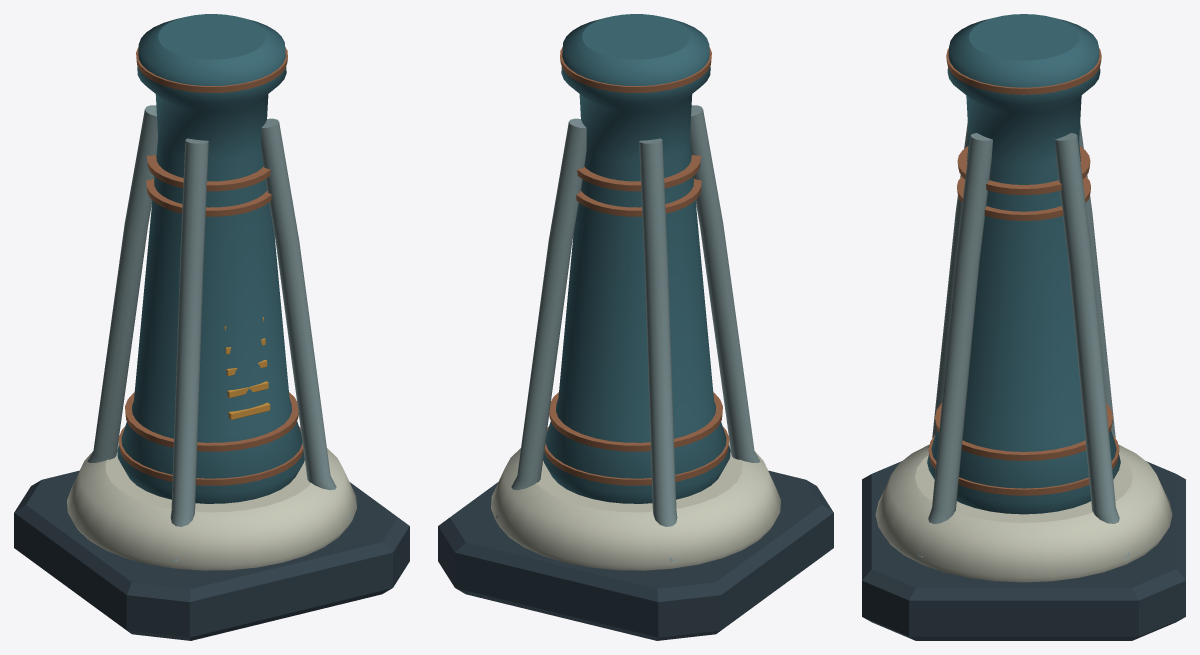
File: radar_pedestal.glb
The picture shows the model from 3 angles, left to right: view 1: azimuth 30°, elevation 25°; view 2: azimuth 150°, elevation 25°; view 3: azimuth 270°, elevation 25°; orthographic projection. The views are drawn at different scales.
Parts seen in each view (by area): view 1: radar_pedestal; view 2: radar_pedestal; view 3: radar_pedestal.
Boxes of the visible parts, x1,y1,x2,y2 form: radar_pedestal: (14,14,409,640); radar_pedestal: (438,14,833,640); radar_pedestal: (862,14,1185,640).
Size of the model in its own units: 4.72 by 8.38 by 4.58.
